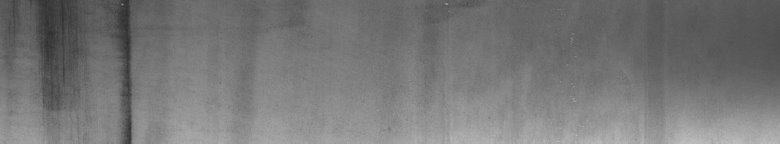ka: (13, 4, 141, 136)
